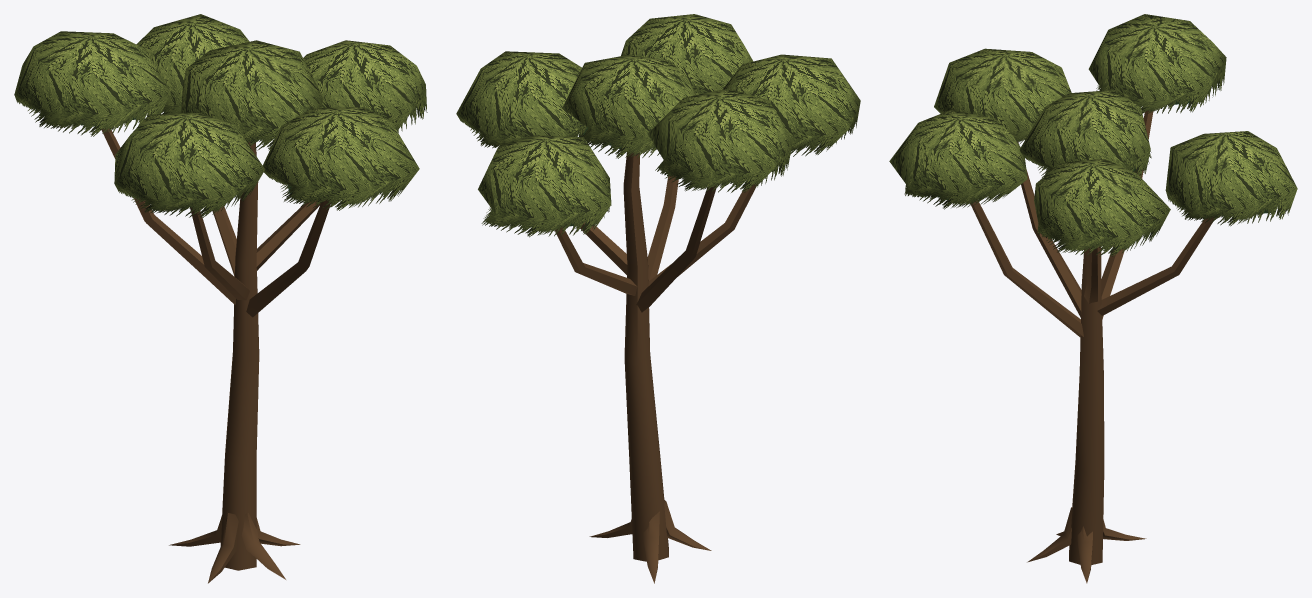
The model's file is Ash.fbx.
3 views of the same model, side by side, from view 1: azimuth 30°, elevation 25°; view 2: azimuth 150°, elevation 25°; view 3: azimuth 270°, elevation 25° (orthographic). The views are drawn at different scales.
Visible parts, largest first — view 1: Ash; view 2: Ash; view 3: Ash.
Boxes of the visible parts, x1=… form: Ash: x1=14, y1=14, x2=427, y2=583; Ash: x1=456, y1=14, x2=860, y2=583; Ash: x1=889, y1=14, x2=1297, y2=583.
Bounding box in the file's own units: 3.36 × 4.67 × 3.57.
